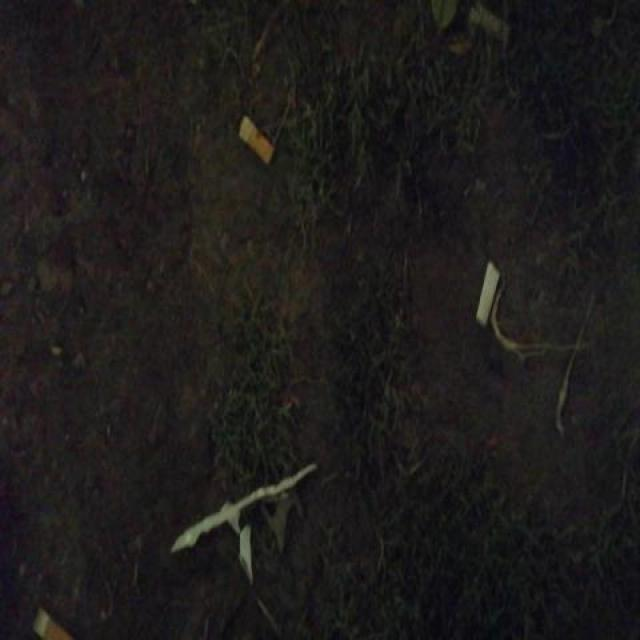non-organic waste: (235, 111, 278, 173), (476, 258, 504, 330)
